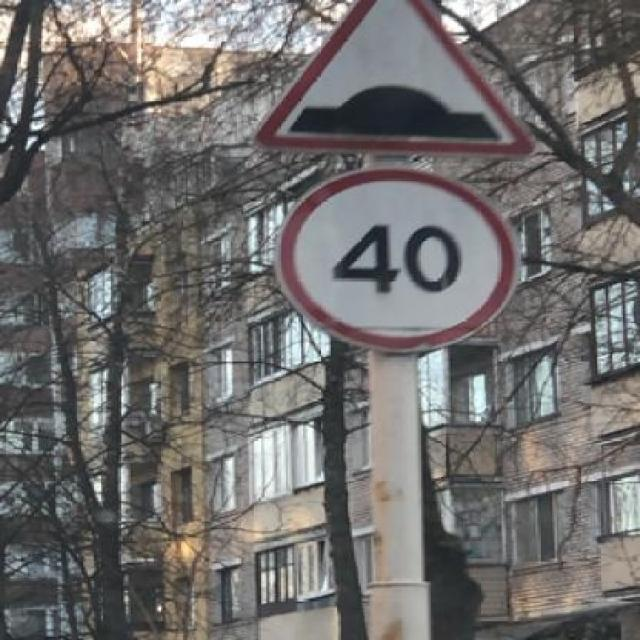forb_speed_over_40: (274, 170, 515, 353)
